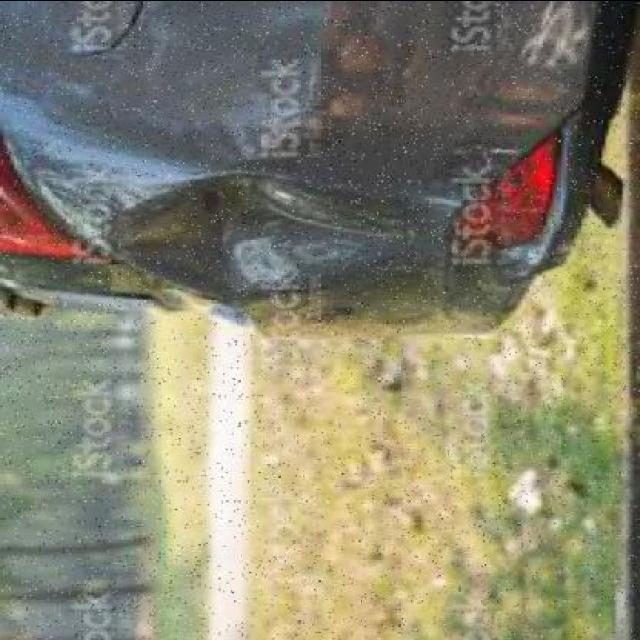rear-bumper-dent: (97, 23, 616, 342)
